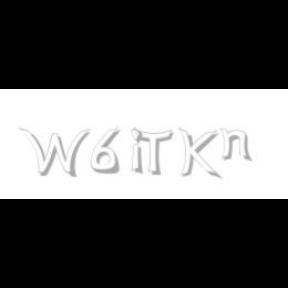6: (90, 128, 119, 176)
K: (178, 128, 218, 180)
T: (133, 128, 173, 176)
W: (18, 128, 90, 178)
i: (130, 128, 146, 176)
n: (219, 128, 253, 162)
